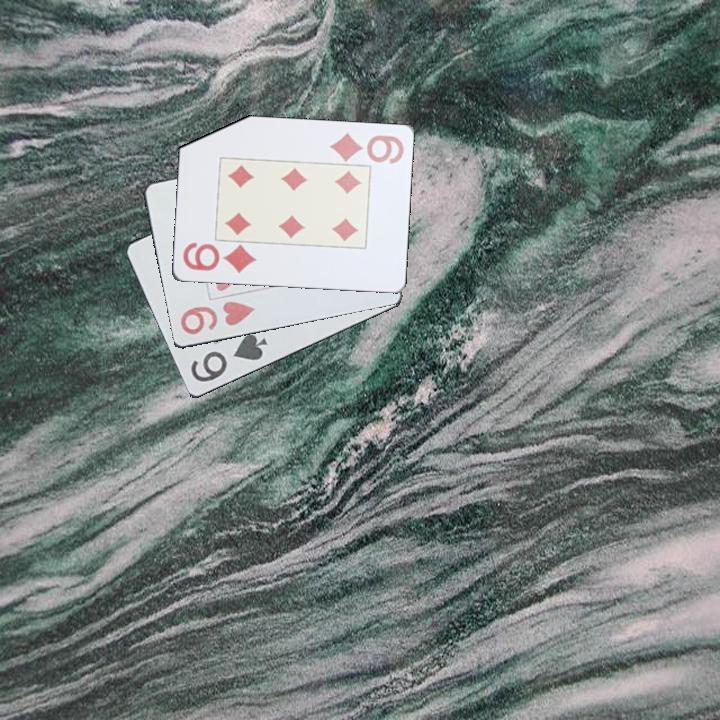6d: (179, 239, 259, 276), (325, 130, 406, 166)
6s: (187, 330, 271, 385)
9h: (176, 298, 259, 338)
